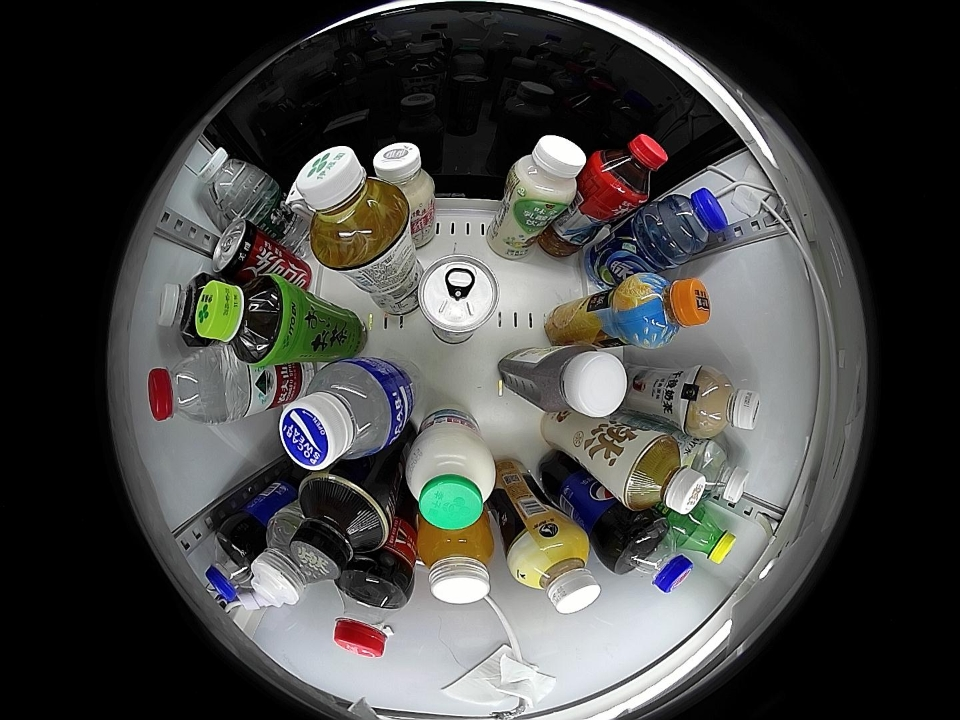asamu: (511, 531, 600, 615)
baicha: (293, 146, 408, 271)
baishikele-2: (612, 518, 692, 594), (205, 531, 260, 603)
baokuangli: (279, 358, 403, 470)
binghongcha: (589, 133, 668, 208)
guolicheng: (617, 272, 711, 348)
jianjiao: (251, 523, 327, 608)
kele-b: (332, 567, 412, 659)
lingdukele: (211, 220, 264, 278)
liziyuan: (405, 423, 497, 531)
maidong: (655, 187, 730, 256)
nongfushanquan: (147, 350, 225, 424)
qinningshui: (690, 440, 750, 505)
rancha-1: (286, 474, 392, 579)
rancha-2: (622, 432, 707, 516)
weic: (416, 516, 495, 605)
weiweidounai: (373, 141, 435, 207)
wuhounaicha: (687, 366, 762, 437)
wulongcha: (158, 274, 214, 346)
xuebi-b: (674, 506, 737, 566)
yezhi: (417, 252, 500, 343)
yibao: (196, 146, 265, 216)
yitengyuan: (196, 275, 290, 367)
yousuanru: (506, 135, 587, 209)
youyanggudong: (537, 345, 628, 419)
